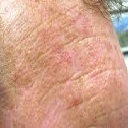Actinic: (6, 16, 79, 94)
